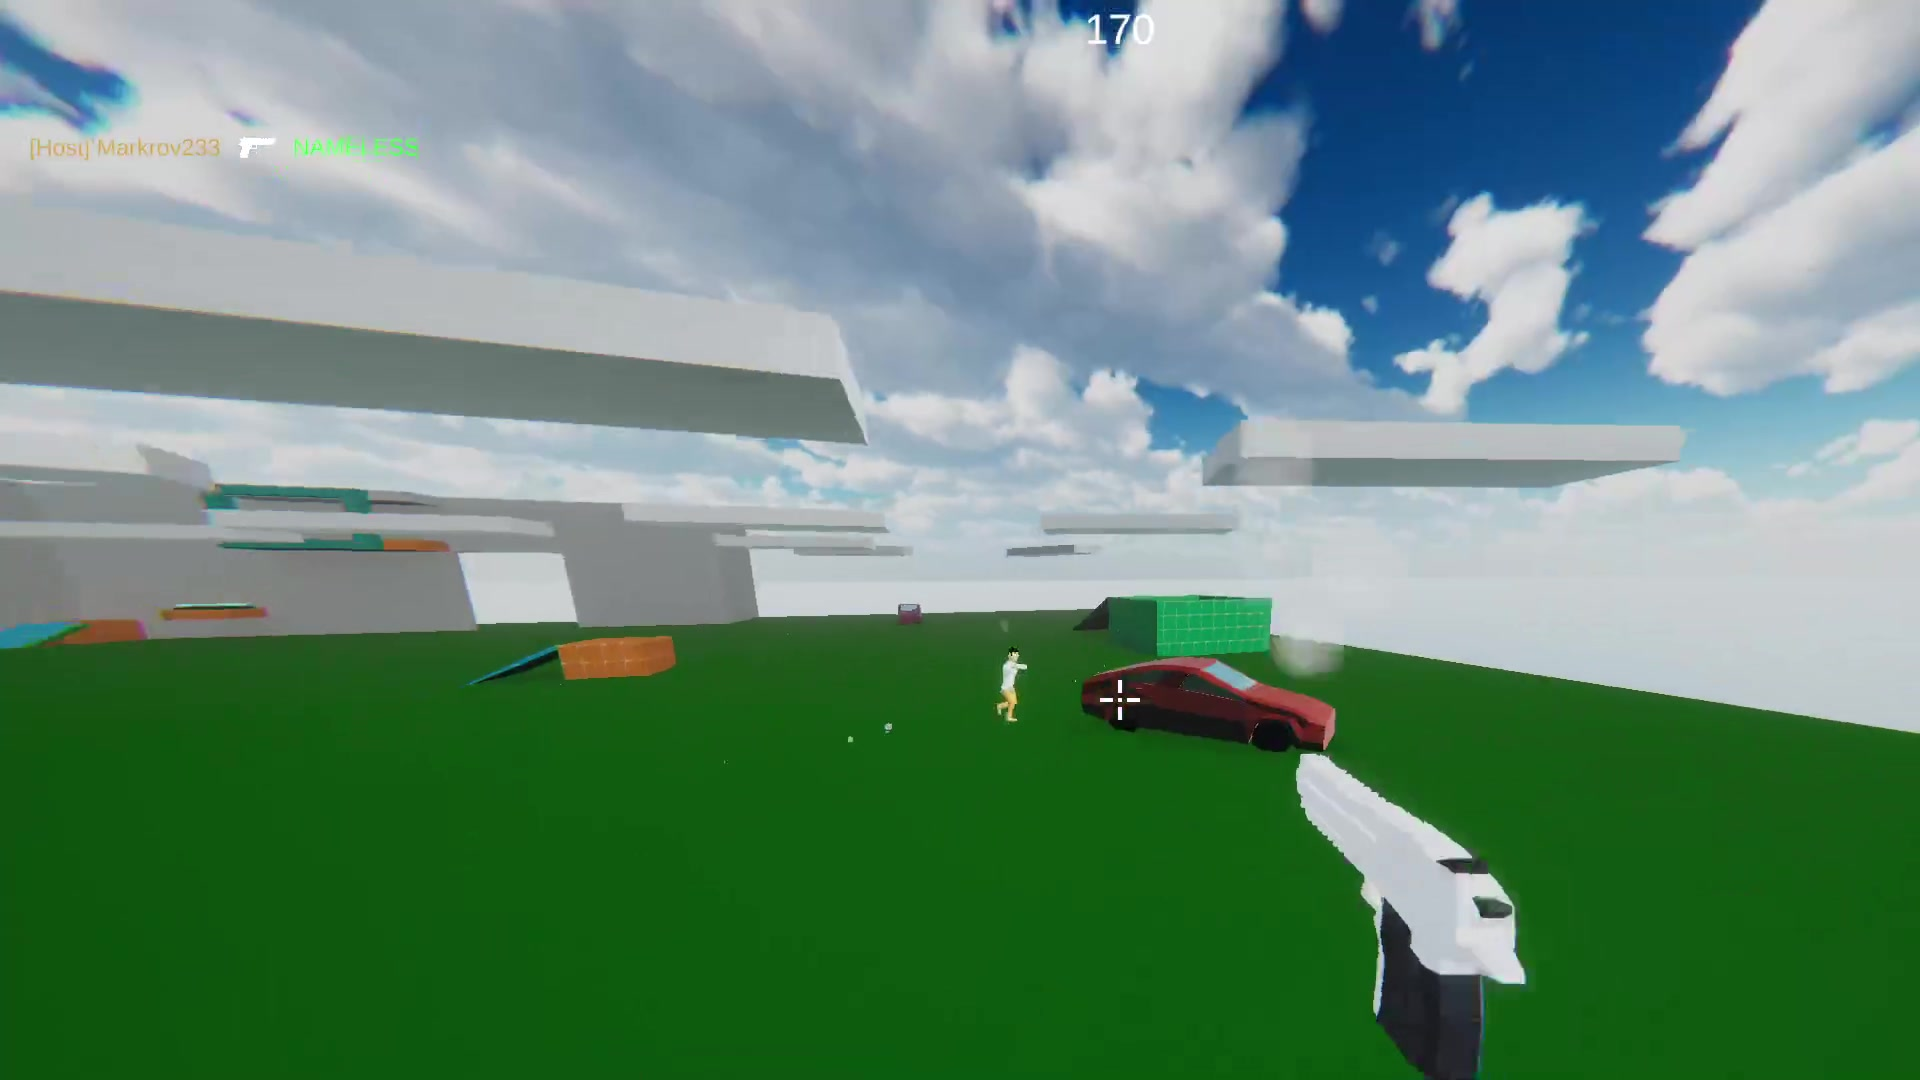human: (1003, 648, 1022, 739)
